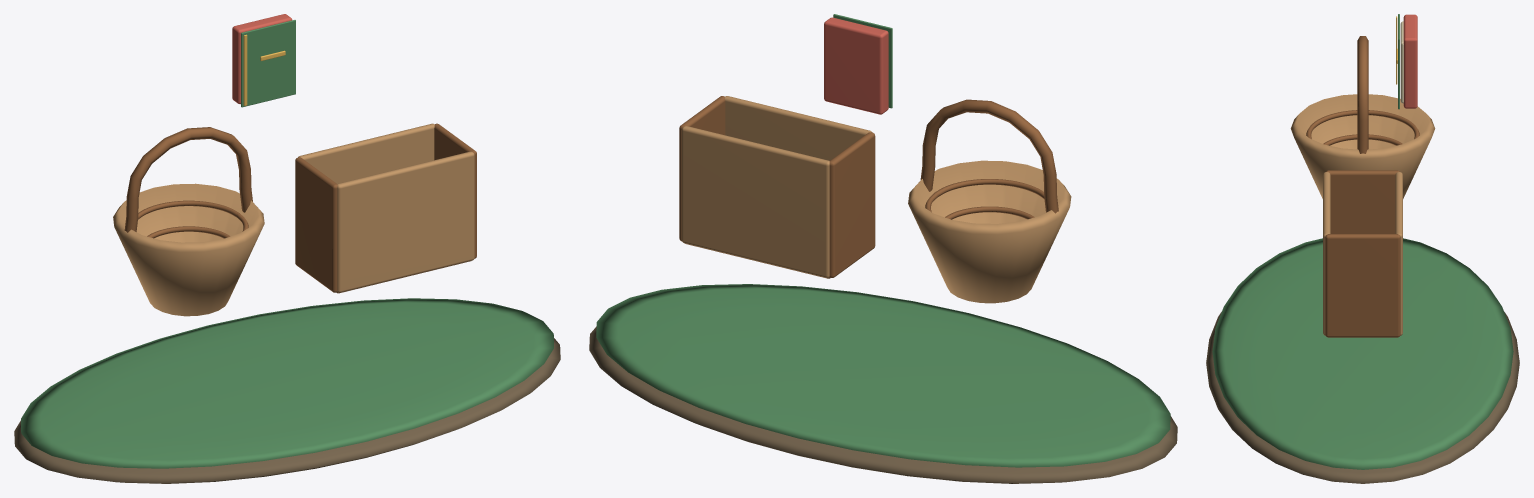
Rendered from complete-third-collect-and-sort.glb.
3 renders of one model, left to right at view 1: azimuth 30°, elevation 25°; view 2: azimuth 150°, elevation 25°; view 3: azimuth 270°, elevation 25°, orthographic. The views are drawn at different scales.
Parts seen in each view (by area): view 1: complete-third-collect-and-sort_surface_01, complete-third-collect-and-sort_surface_02, complete-third-collect-and-sort_surface_03, complete-third-collect-and-sort_surface_00, complete-third-collect-and-sort_surface_04; view 2: complete-third-collect-and-sort_surface_01, complete-third-collect-and-sort_surface_02, complete-third-collect-and-sort_surface_03, complete-third-collect-and-sort_surface_00, complete-third-collect-and-sort_surface_04; view 3: complete-third-collect-and-sort_surface_01, complete-third-collect-and-sort_surface_03, complete-third-collect-and-sort_surface_02, complete-third-collect-and-sort_surface_00, complete-third-collect-and-sort_surface_04.
Part boxes in pixels (x1=…): complete-third-collect-and-sort_surface_01: x1=21, y1=20, x2=553, y2=468; complete-third-collect-and-sort_surface_02: x1=113, y1=123, x2=474, y2=316; complete-third-collect-and-sort_surface_03: x1=124, y1=123, x2=476, y2=293; complete-third-collect-and-sort_surface_00: x1=14, y1=338, x2=560, y2=483; complete-third-collect-and-sort_surface_04: x1=232, y1=14, x2=292, y2=104; complete-third-collect-and-sort_surface_01: x1=596, y1=14, x2=1170, y2=467; complete-third-collect-and-sort_surface_02: x1=681, y1=96, x2=1071, y2=303; complete-third-collect-and-sort_surface_03: x1=679, y1=96, x2=1058, y2=278; complete-third-collect-and-sort_surface_00: x1=589, y1=326, x2=1177, y2=483; complete-third-collect-and-sort_surface_04: x1=824, y1=17, x2=888, y2=114; complete-third-collect-and-sort_surface_01: x1=1212, y1=14, x2=1513, y2=469; complete-third-collect-and-sort_surface_03: x1=1306, y1=36, x2=1419, y2=337; complete-third-collect-and-sort_surface_02: x1=1290, y1=94, x2=1435, y2=335; complete-third-collect-and-sort_surface_00: x1=1206, y1=312, x2=1519, y2=483; complete-third-collect-and-sort_surface_04: x1=1403, y1=14, x2=1417, y2=108.
Size of the model in its own units: 4.56 by 3.09 by 2.5.
